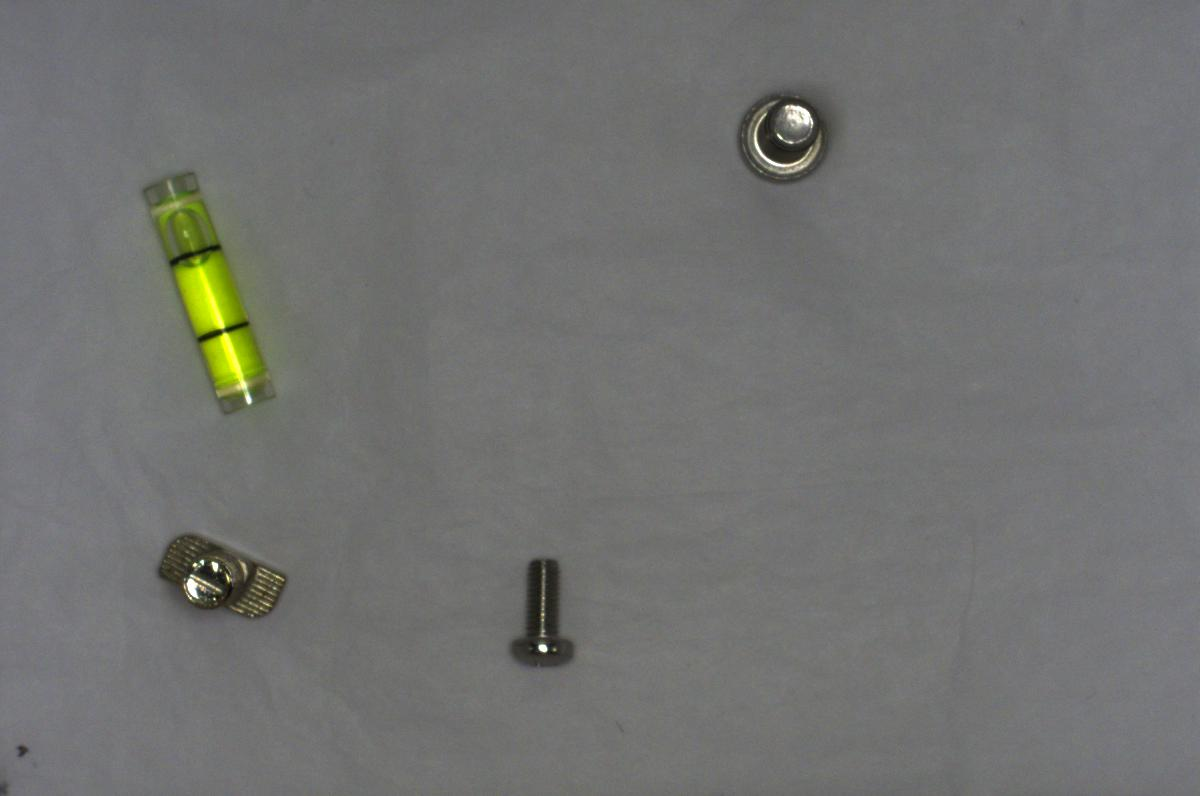Hexagon screw: (728, 88, 838, 188)
Horizontal bubble: (141, 162, 275, 414)
Round head screw: (497, 549, 581, 675)
T-shaped screw: (148, 527, 297, 623)
